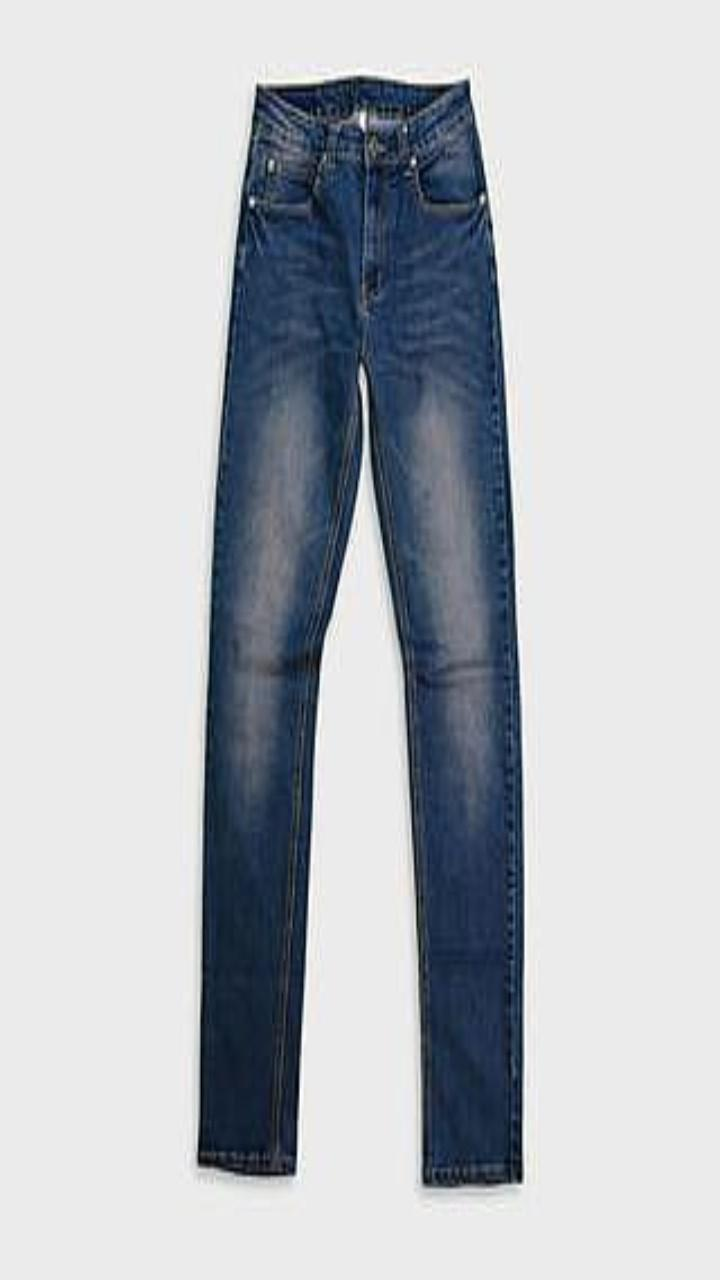Jeans: (198, 77, 522, 1184)
